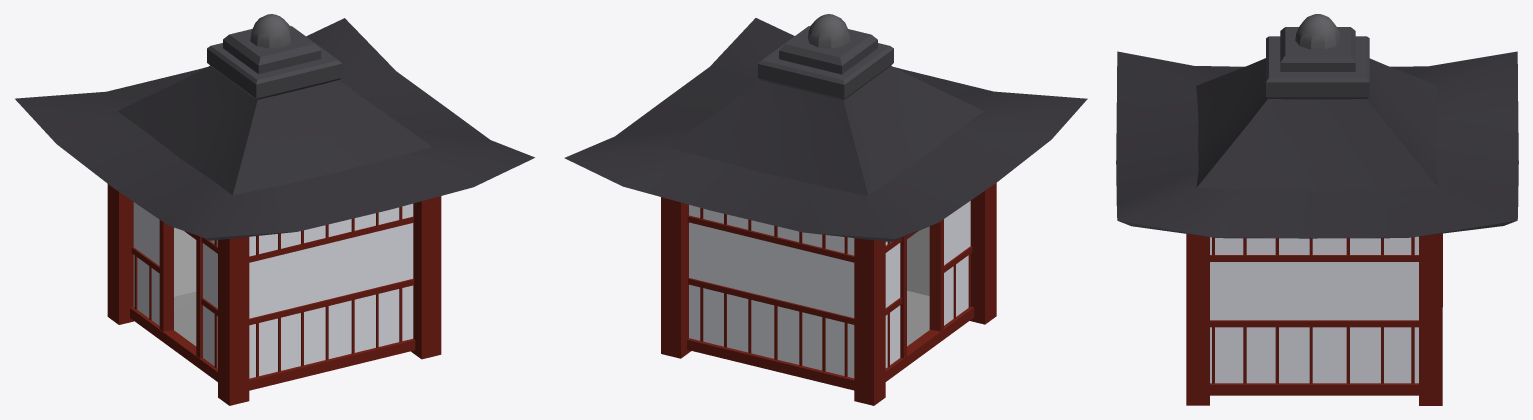
Rendered from Houme05.fbx.
3 renders of one model, left to right at view 1: azimuth 30°, elevation 25°; view 2: azimuth 150°, elevation 25°; view 3: azimuth 270°, elevation 25°, orthographic. The views are drawn at different scales.
Visible parts, largest first — view 1: houme05; view 2: houme05; view 3: houme05.
Part boxes in pixels (x1,y1,x2,y2): houme05: (15,14,534,405); houme05: (564,14,1087,405); houme05: (1116,14,1518,405).
Bounding box in the file's own units: 914 × 840 × 914.
